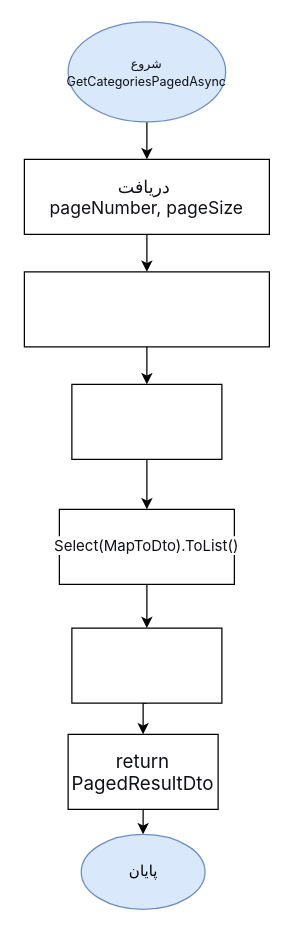
This 294x931 diagram has some shape labels left out. Each missing label, with the centre of its shape:
"CountAsync()" goes at (x=146, y=421).
"GetPagedAsync(pageNumber, pageSize)" goes at (x=146, y=309).
"ساخت PagedResultDto" goes at (x=146, y=665).
